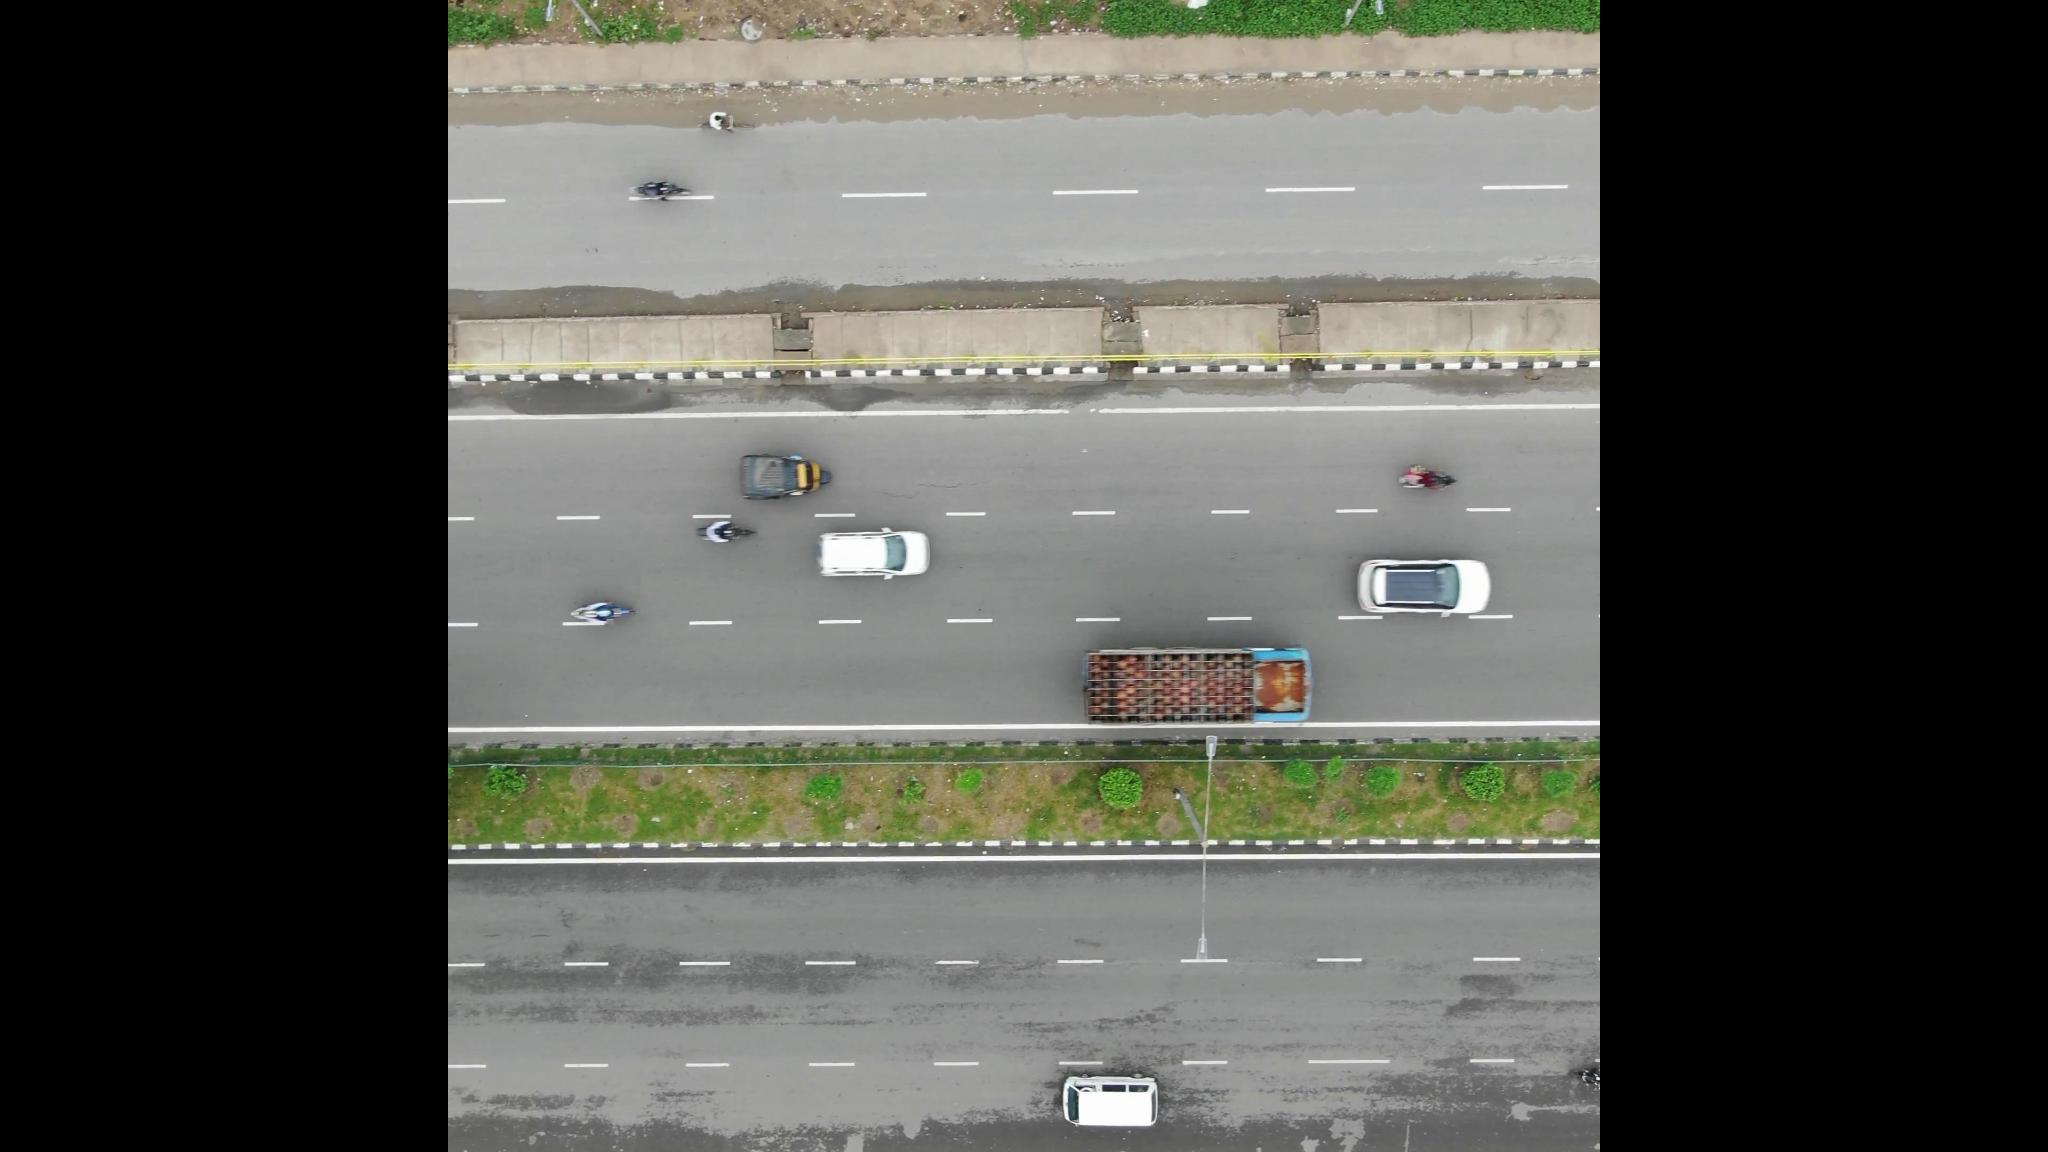Muddy_road: (768, 77, 1260, 134), (1274, 69, 1594, 122), (454, 87, 688, 129)
